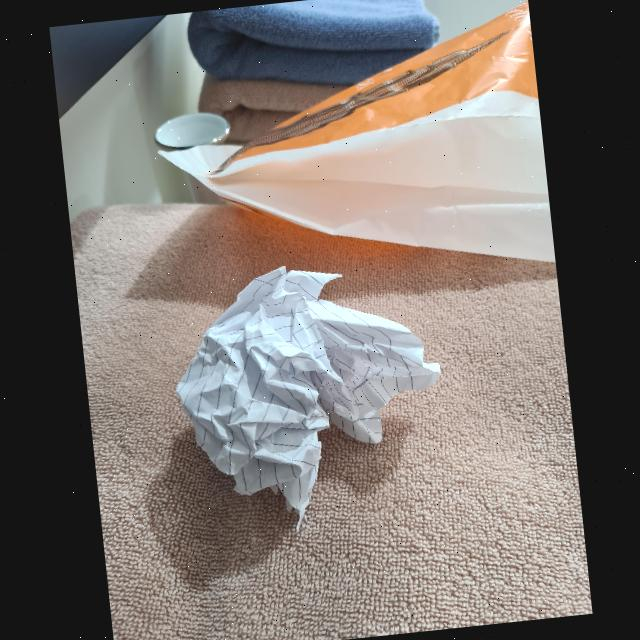trash: (162, 252, 445, 514)
